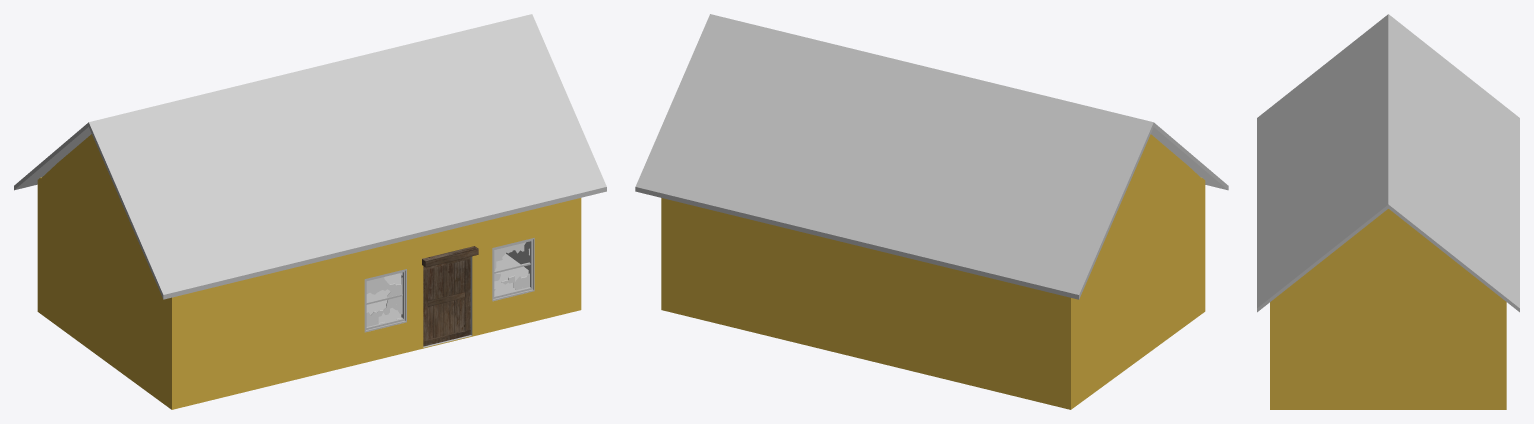
Rendered from farmer house23.fbx.
3 views of the same model, side by side, from view 1: azimuth 30°, elevation 25°; view 2: azimuth 150°, elevation 25°; view 3: azimuth 270°, elevation 25° (orthographic). The views are drawn at different scales.
Parts seen in each view (by area): view 1: Cube.011, Cube.013, Cube, Plane_cell.113, Cube.009, Cube.010, Plane_cell.078, Cube.001; view 2: Cube.011, Cube.013; view 3: Cube.011, Cube.013.
Part boxes in pixels (x1,y1,x2,y2): Cube.011: (14, 14, 606, 299); Cube.013: (37, 134, 581, 409); Cube: (423, 257, 470, 346); Plane_cell.113: (366, 272, 402, 326); Cube.009: (492, 238, 534, 301); Cube.010: (364, 269, 406, 332); Plane_cell.078: (494, 242, 529, 290); Cube.001: (422, 246, 478, 267); Cube.011: (635, 14, 1228, 299); Cube.013: (661, 134, 1205, 409); Cube.011: (1257, 14, 1519, 312); Cube.013: (1270, 209, 1506, 409).
Bounding box in the file's own units: 1550 × 810 × 904.
